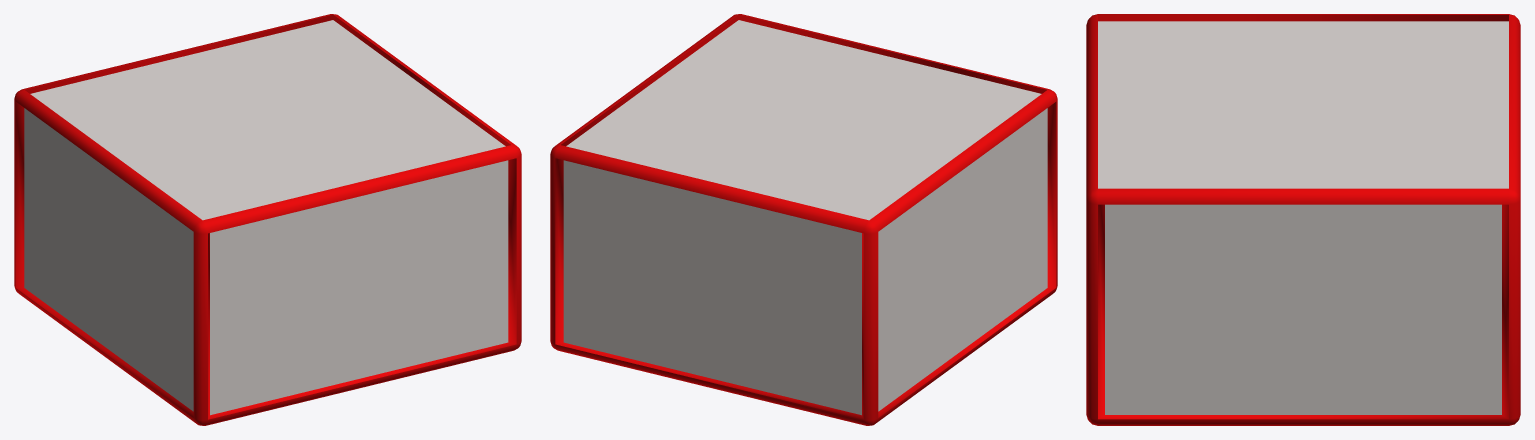
3 views of the same model, side by side, from view 1: azimuth 30°, elevation 25°; view 2: azimuth 150°, elevation 25°; view 3: azimuth 270°, elevation 25° (orthographic). The views are drawn at different scales.
Parts seen in each view (by area): view 1: Cube_0.6; view 2: Cube_0.6; view 3: Cube_0.6.
Part boxes in pixels (x1,y1,x2,y2): Cube_0.6: (14,14,521,425); Cube_0.6: (550,14,1057,425); Cube_0.6: (1086,14,1520,425).
Bounding box in the file's own units: 100 × 59.98 × 100.
